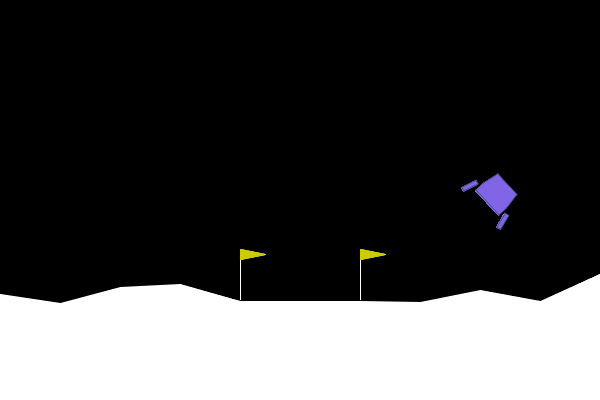lander: (459, 161, 529, 232)
